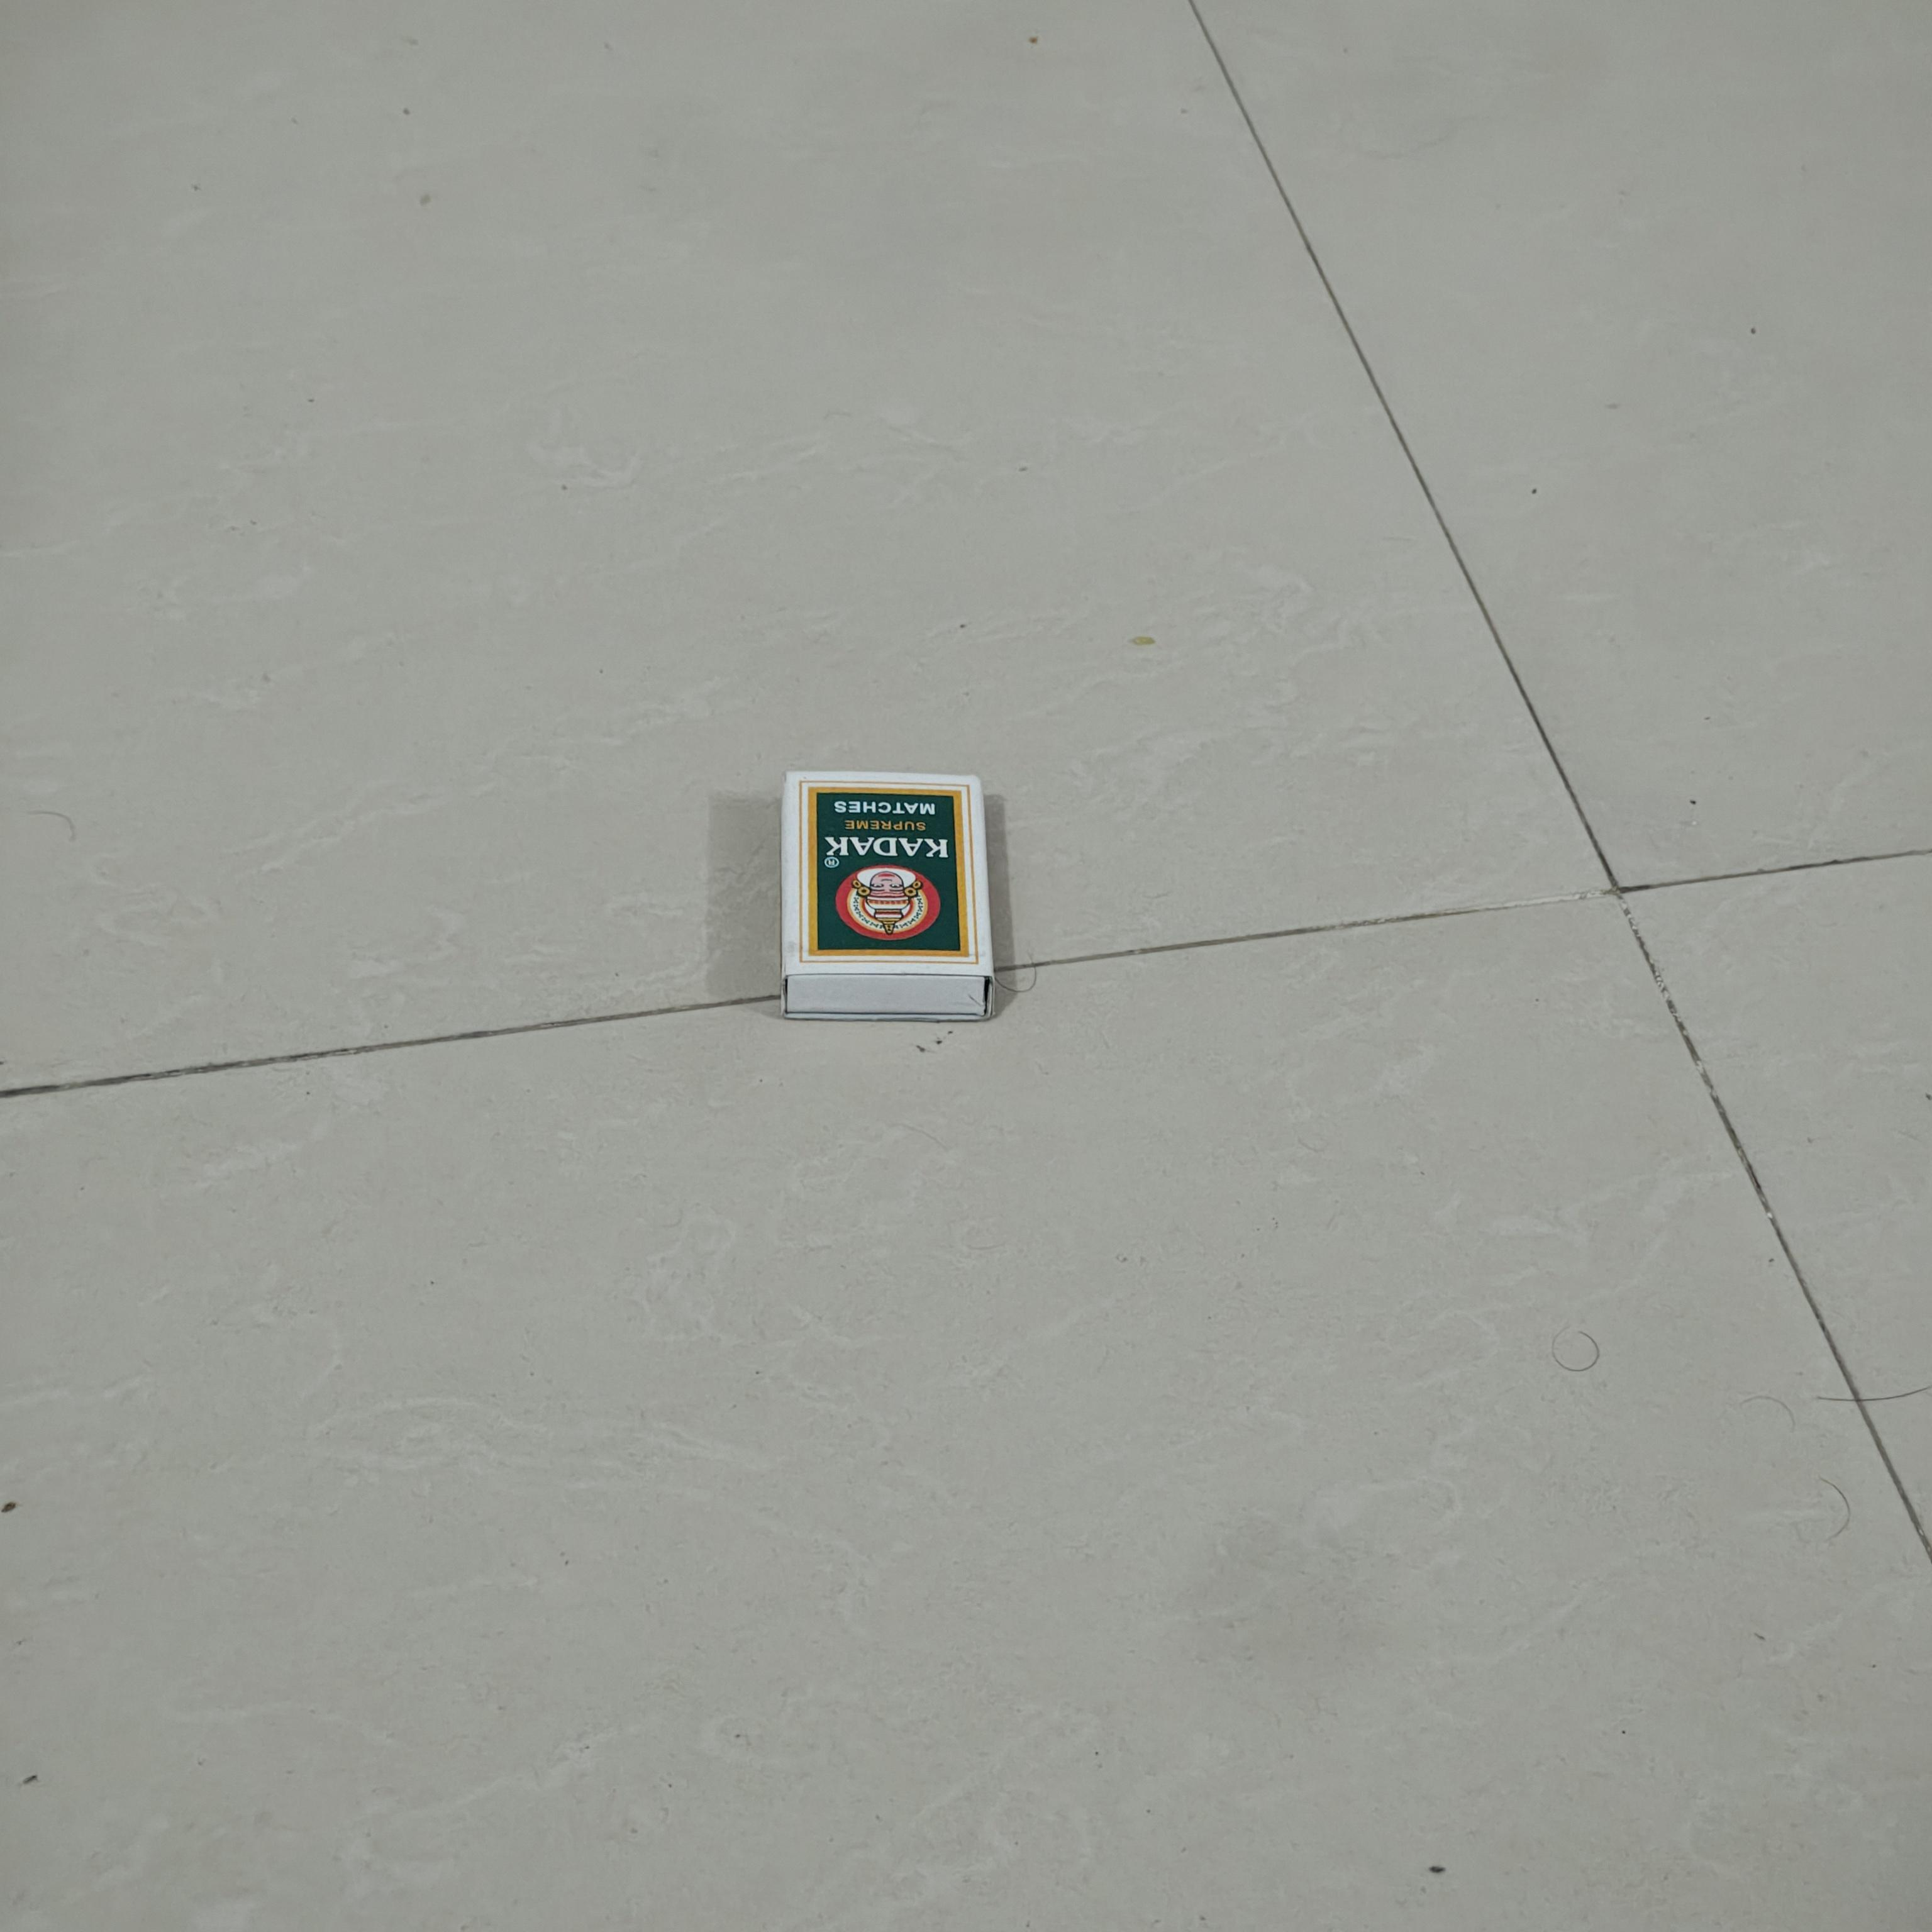garbage: (777, 764, 994, 1016)
